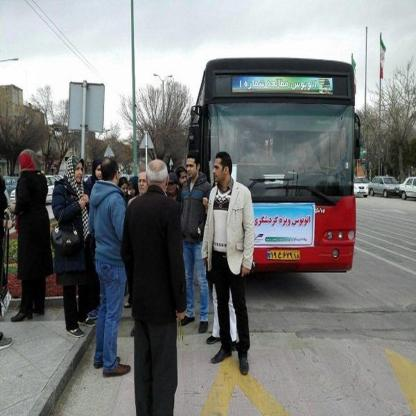Bus: (188, 56, 359, 286)
Car: (368, 172, 399, 200), (397, 178, 416, 206), (354, 174, 368, 200)
